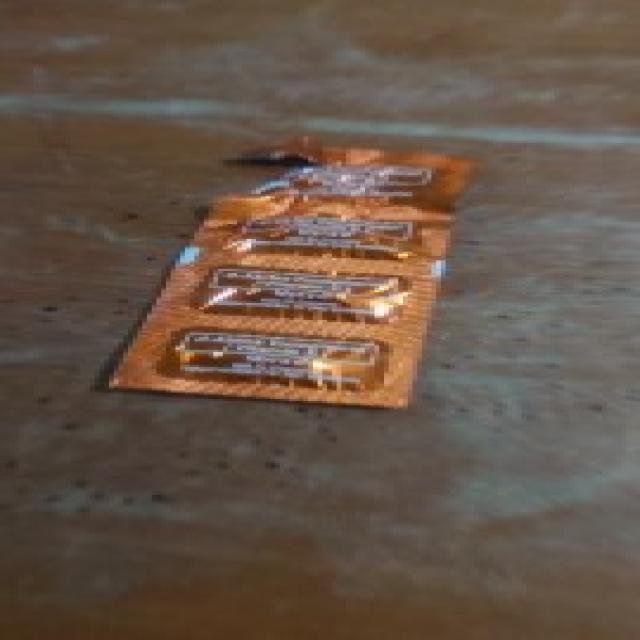Cacat: (100, 131, 474, 409)
Kemasan: (206, 135, 363, 201)
